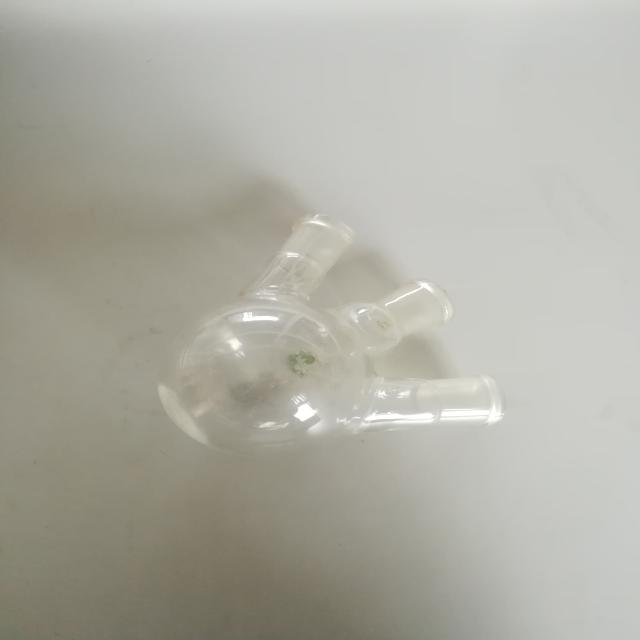Round_Bottom_Flask_Borosilicate_Glass_3_Neck: (127, 183, 514, 520)
